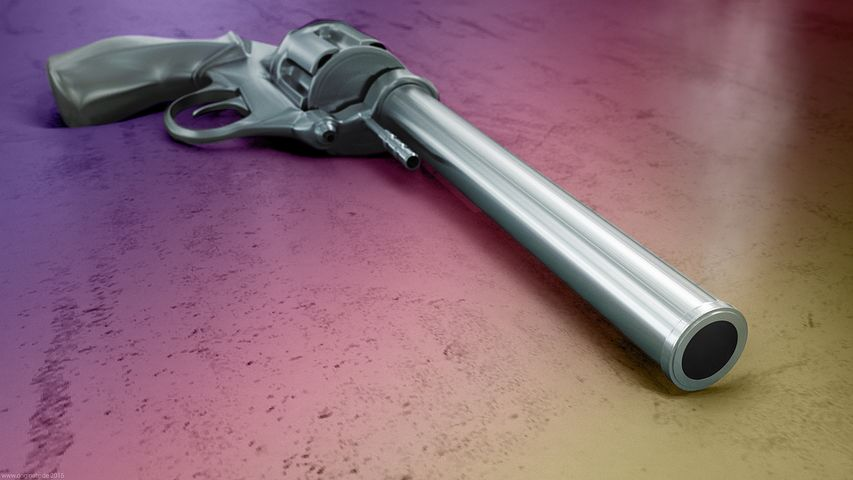gun: (44, 17, 754, 392)
